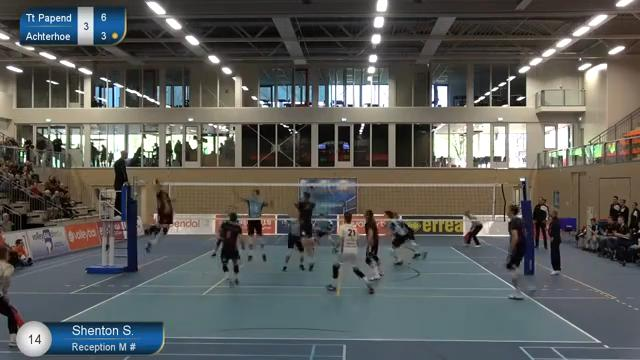Attack: (136, 173, 178, 254)
Player: (332, 213, 373, 293), (384, 211, 426, 265), (146, 179, 173, 251), (506, 205, 525, 299), (242, 189, 266, 261), (219, 213, 241, 285), (295, 192, 314, 270), (365, 210, 382, 280), (282, 218, 304, 271), (314, 214, 337, 253), (211, 237, 222, 256)
